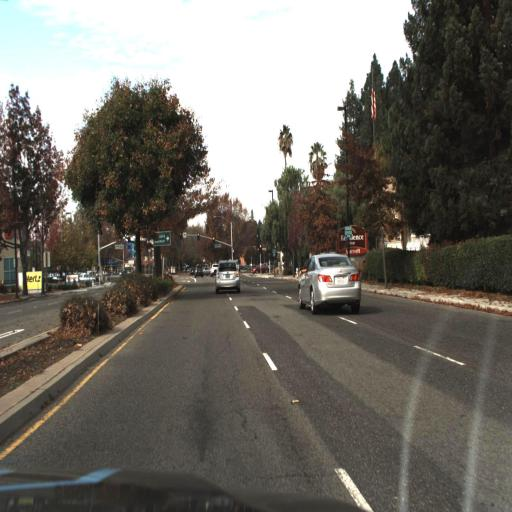car: (295, 246, 367, 323), (211, 254, 246, 300)
